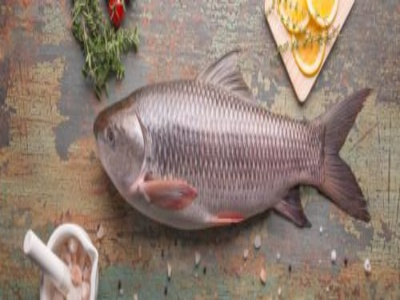rohu: (91, 47, 382, 243)
